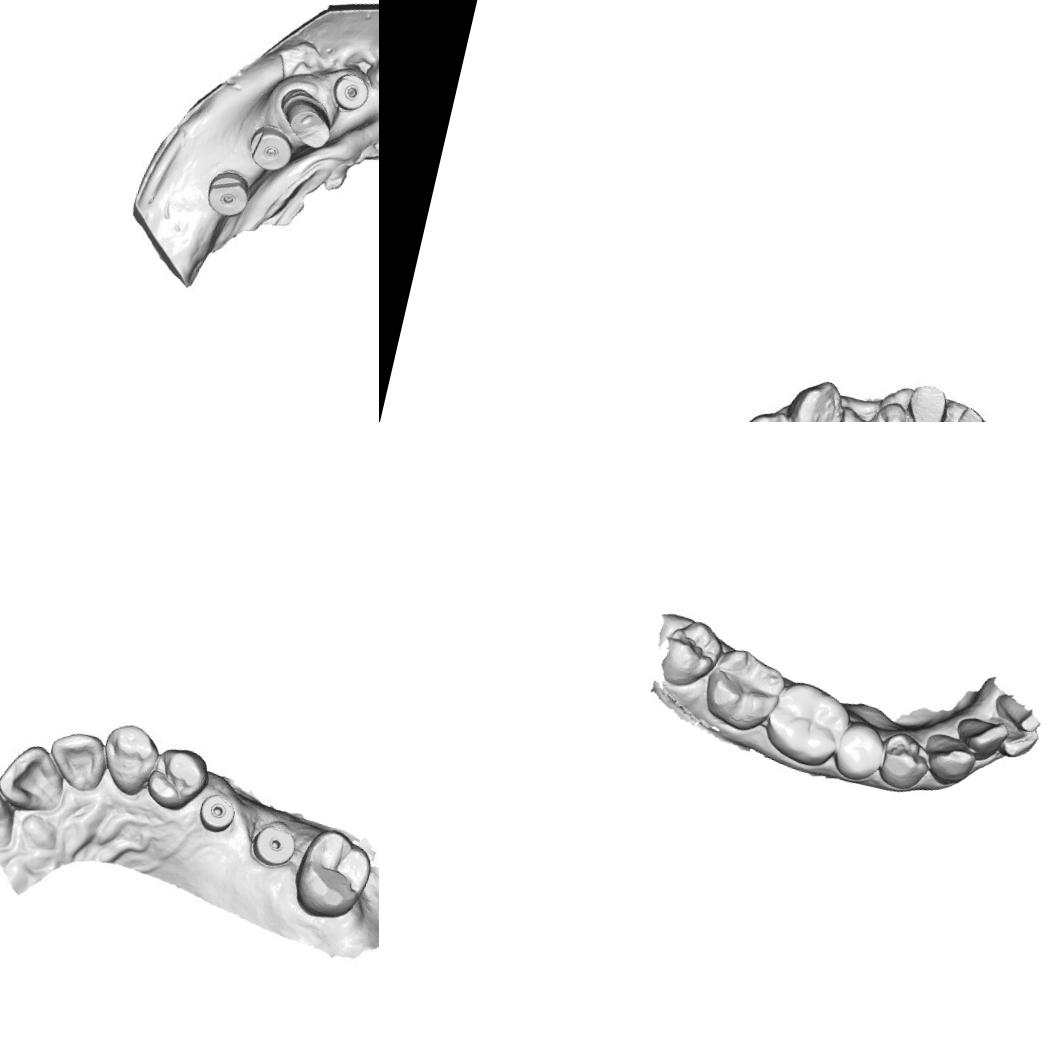canine: (96, 714, 166, 802), (917, 730, 981, 791), (784, 374, 854, 422)
crown: (268, 85, 342, 156), (898, 372, 956, 422), (945, 403, 995, 422)
implant: (241, 817, 300, 874), (200, 168, 256, 220), (246, 123, 298, 174), (327, 69, 373, 113), (194, 792, 236, 838)
incisor: (0, 738, 76, 818), (39, 722, 108, 791), (950, 712, 1011, 766), (984, 715, 1042, 763), (0, 778, 15, 843)
molar: (758, 675, 857, 773), (288, 821, 379, 927), (697, 642, 792, 739), (649, 610, 729, 695)
premolar: (142, 742, 210, 815), (830, 717, 890, 786), (875, 728, 936, 794), (732, 405, 818, 422)
